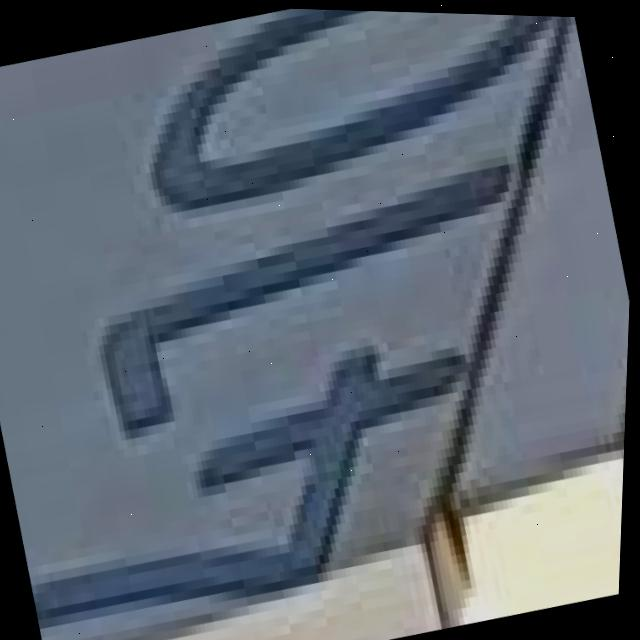character: (0, 293, 525, 640), (60, 131, 564, 461), (109, 3, 604, 247)
